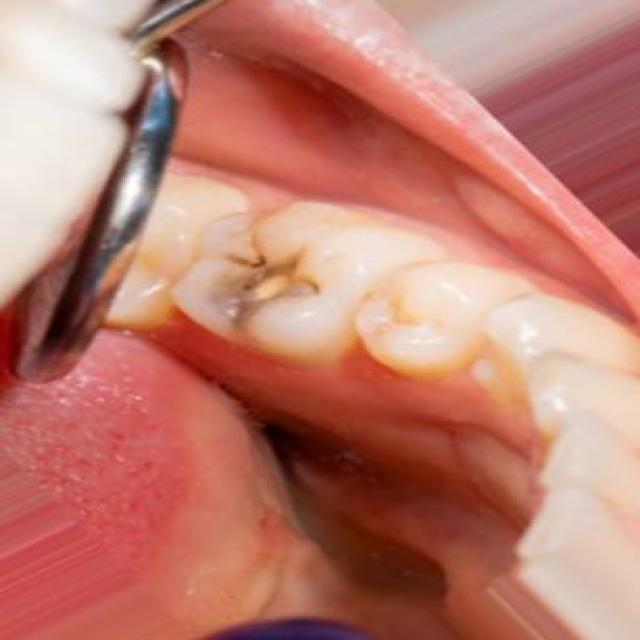caries: (188, 227, 350, 323)
